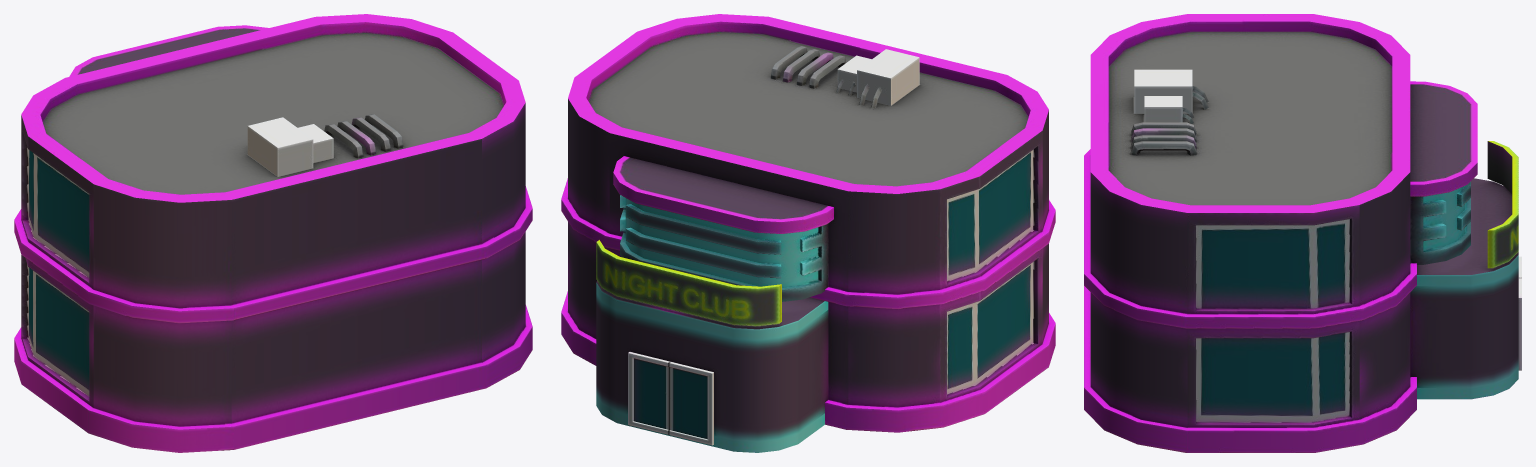
The model's file is Night Club.glb.
The picture shows the model from 3 angles, left to right: view 1: azimuth 30°, elevation 25°; view 2: azimuth 150°, elevation 25°; view 3: azimuth 270°, elevation 25°; orthographic projection. The views are drawn at different scales.
Parts seen in each view (by area): view 1: Object007; view 2: Object007; view 3: Object007.
Boxes of the visible parts, x1,y1,x2,y2 form: Object007: (14,14,532,452); Object007: (561,14,1055,452); Object007: (1084,14,1521,452).
Bounding box in the file's own units: 6.54 × 3.8 × 5.92.
1 material, 1 textured.
